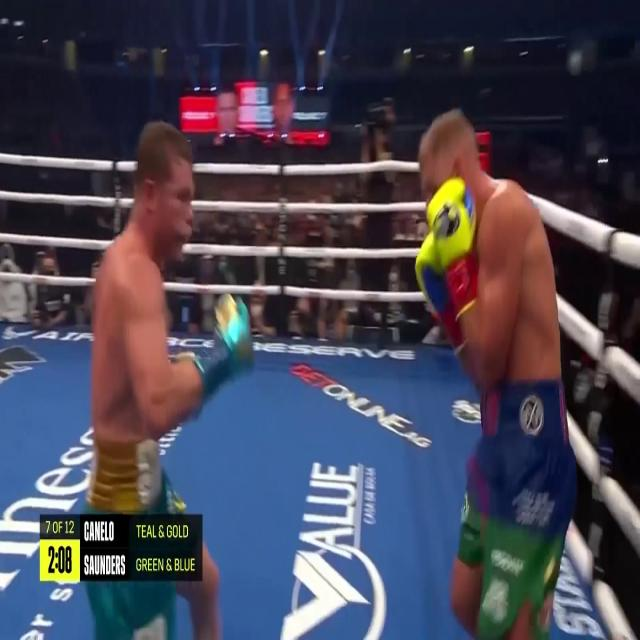boxer_1: (419, 110, 561, 383)
boxer_2: (95, 122, 192, 440)
gloves_1: (415, 177, 478, 349)
gloves_2: (171, 294, 252, 425)
